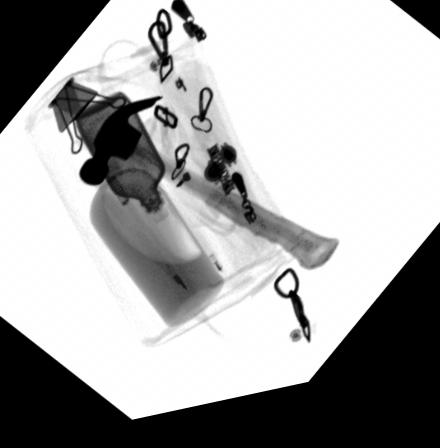Hammer: (76, 102, 339, 285)
